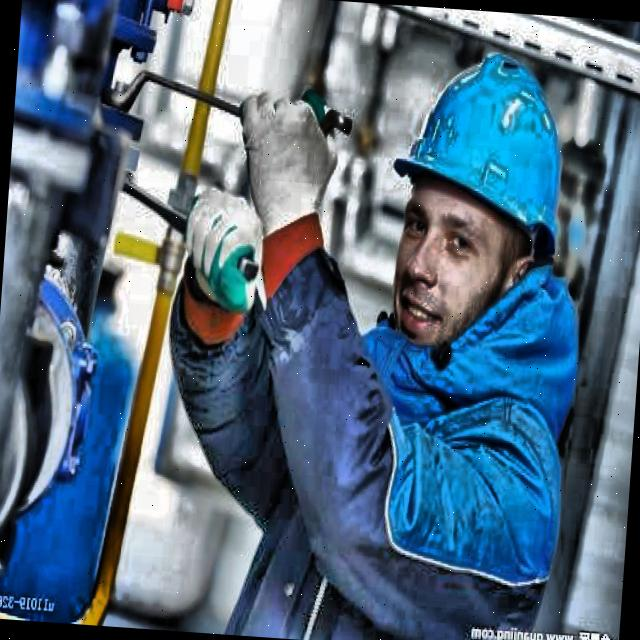helmet: (362, 23, 590, 368)
